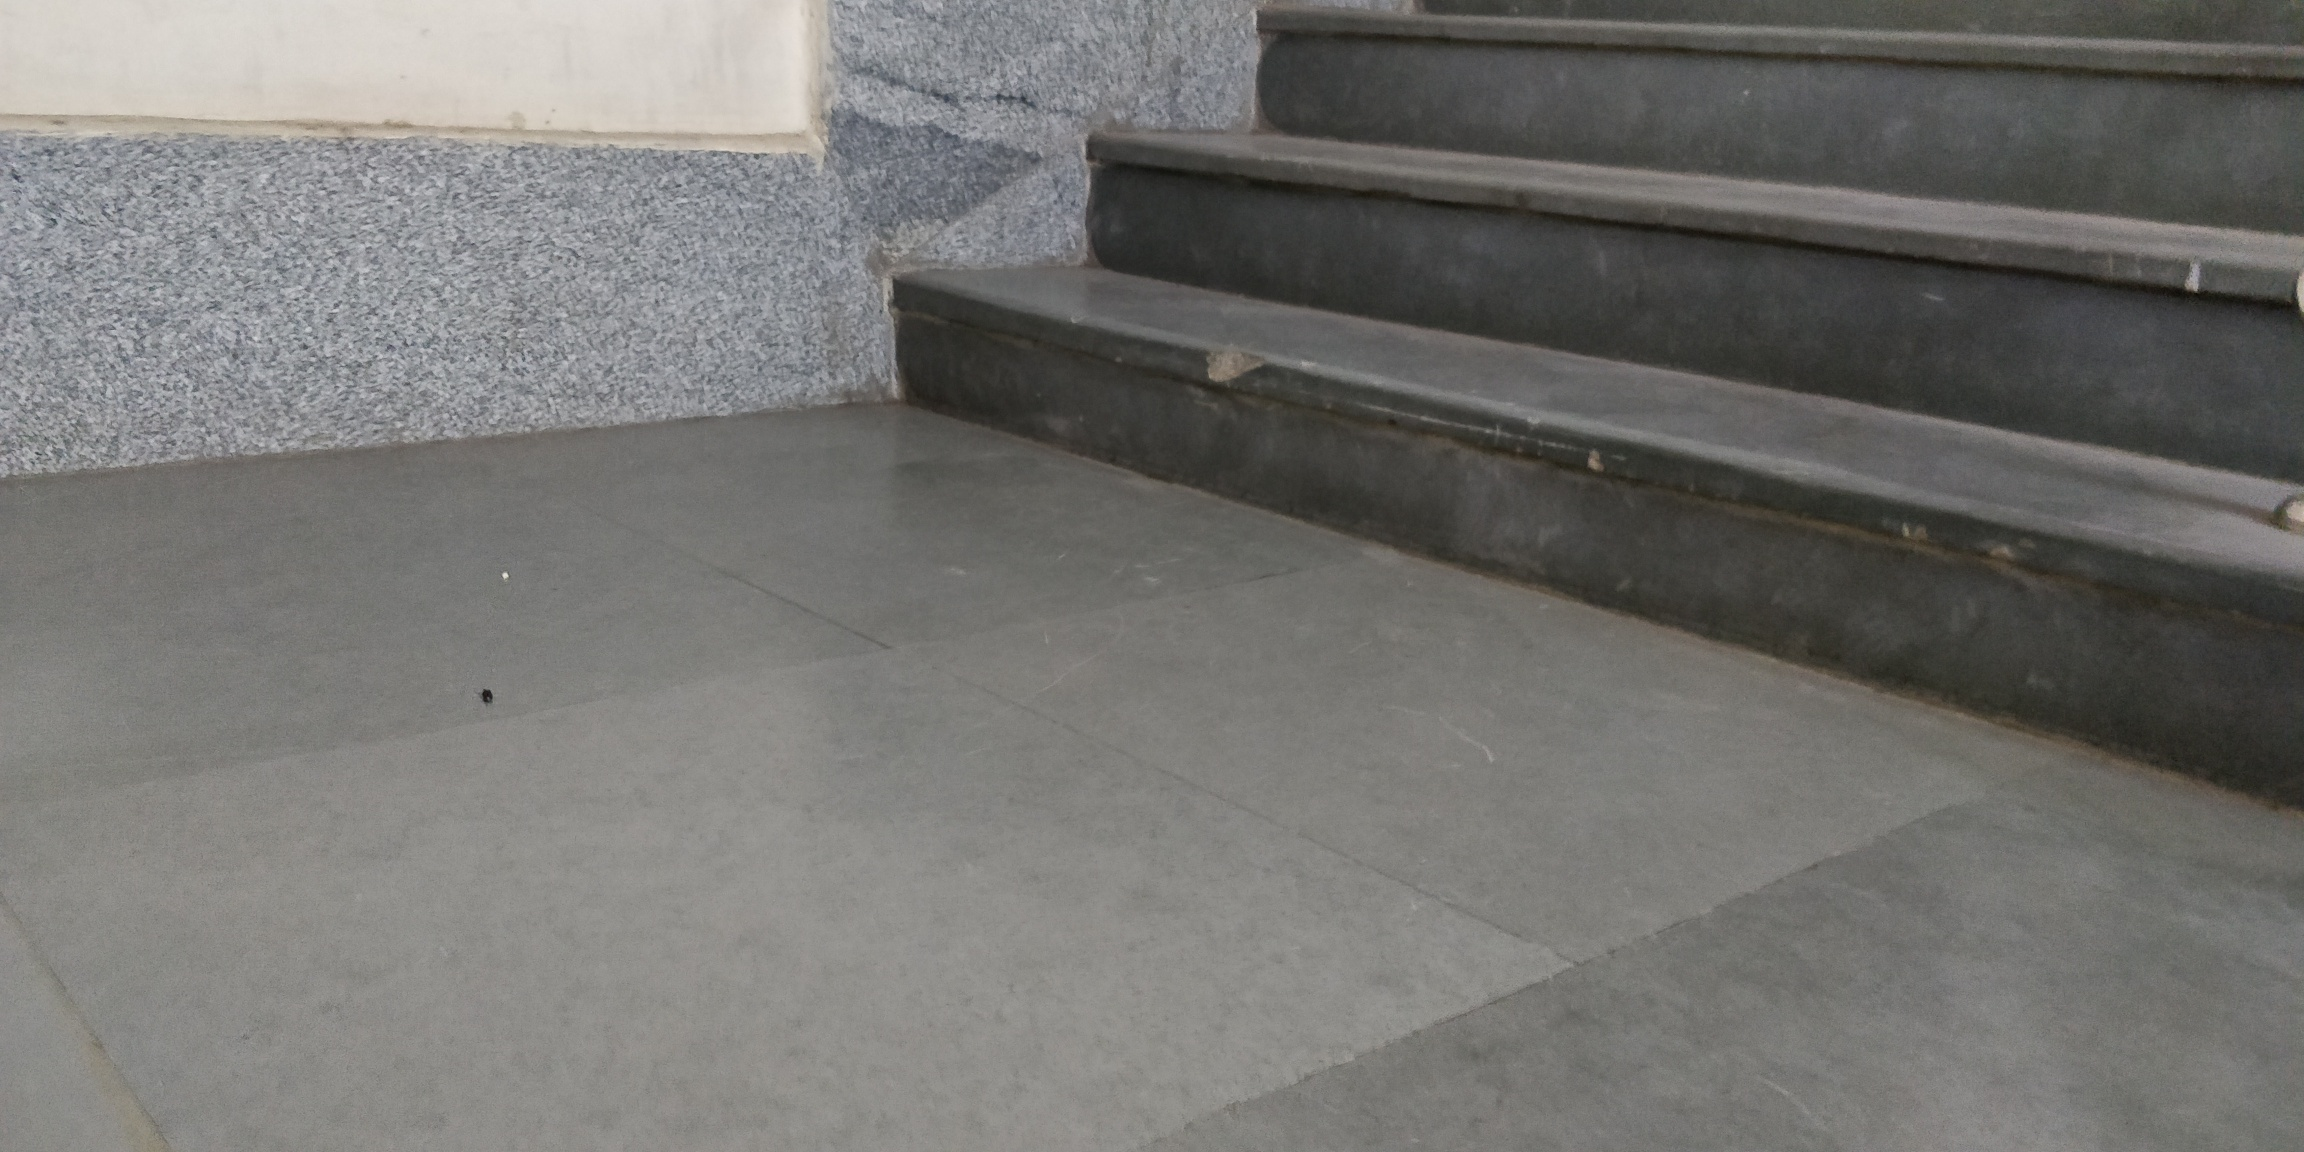stairs_up: (813, 1, 2303, 843)
